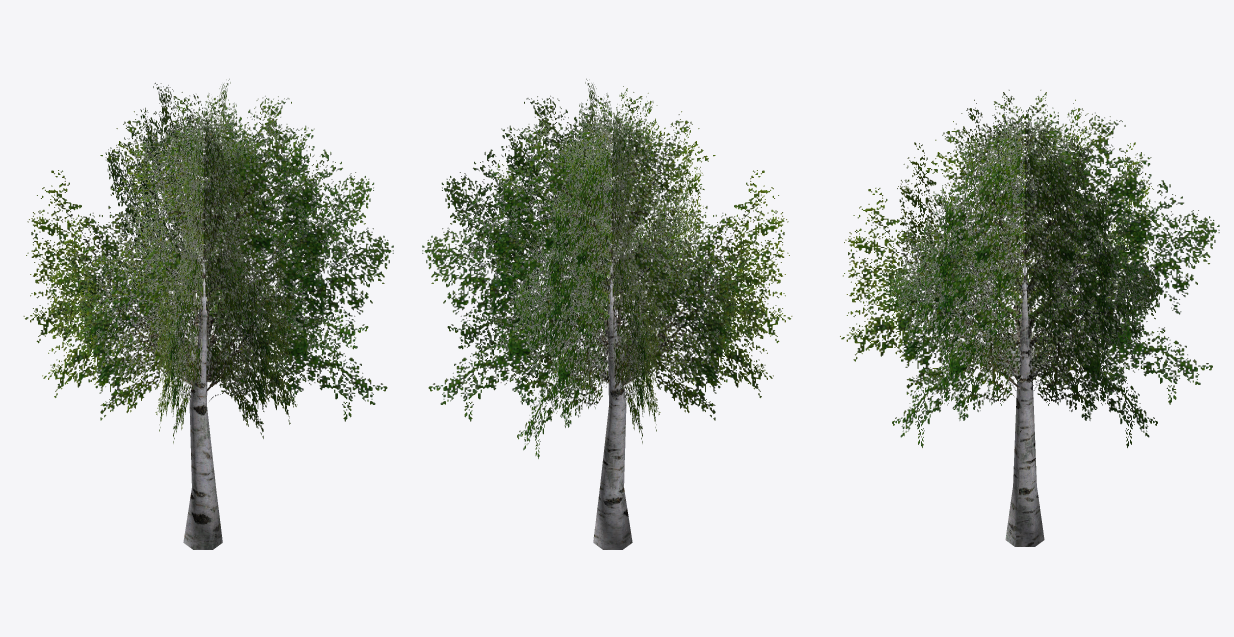
The model's file is Abeto.obj.
3 views of the same model, side by side, from view 1: azimuth 30°, elevation 25°; view 2: azimuth 150°, elevation 25°; view 3: azimuth 270°, elevation 25° (orthographic).
Parts seen in each view (by area): view 1: birch-2_Leaf, birch-2_Bark; view 2: birch-2_Leaf, birch-2_Bark; view 3: birch-2_Leaf, birch-2_Bark.
Boxes of the visible parts, x1,y1,x2,y2 form: birch-2_Leaf: (23,78,393,443); birch-2_Bark: (183,258,222,549); birch-2_Leaf: (422,78,792,458); birch-2_Bark: (593,258,632,549); birch-2_Leaf: (840,90,1219,447); birch-2_Bark: (1005,257,1044,546).
Size of the model in its own units: 16.14 by 20.32 by 16.14.
